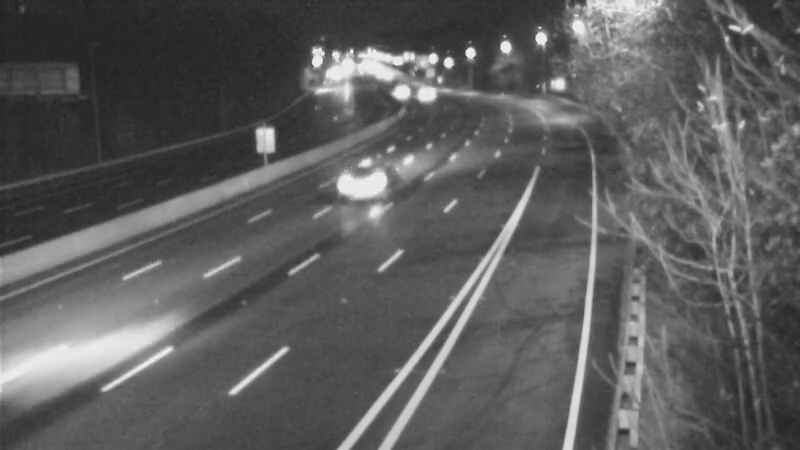vehicle: (328, 141, 408, 221), (400, 67, 450, 117), (369, 66, 419, 116)
